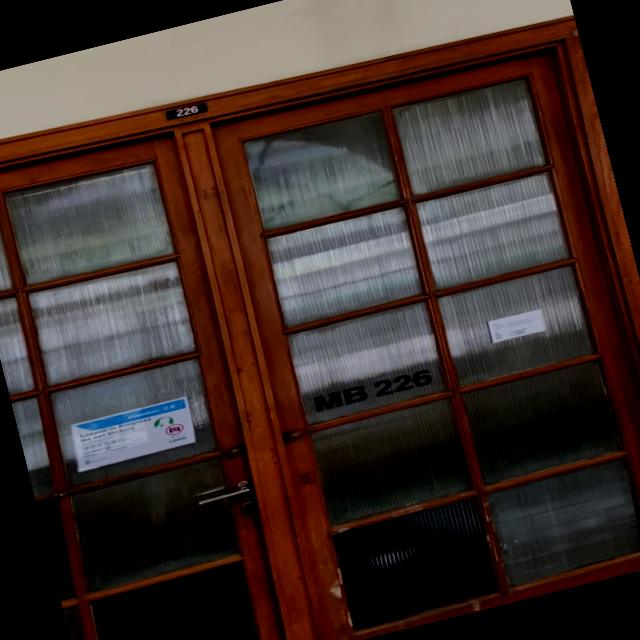room226: (164, 98, 212, 122)
room226Window: (308, 362, 440, 414)
